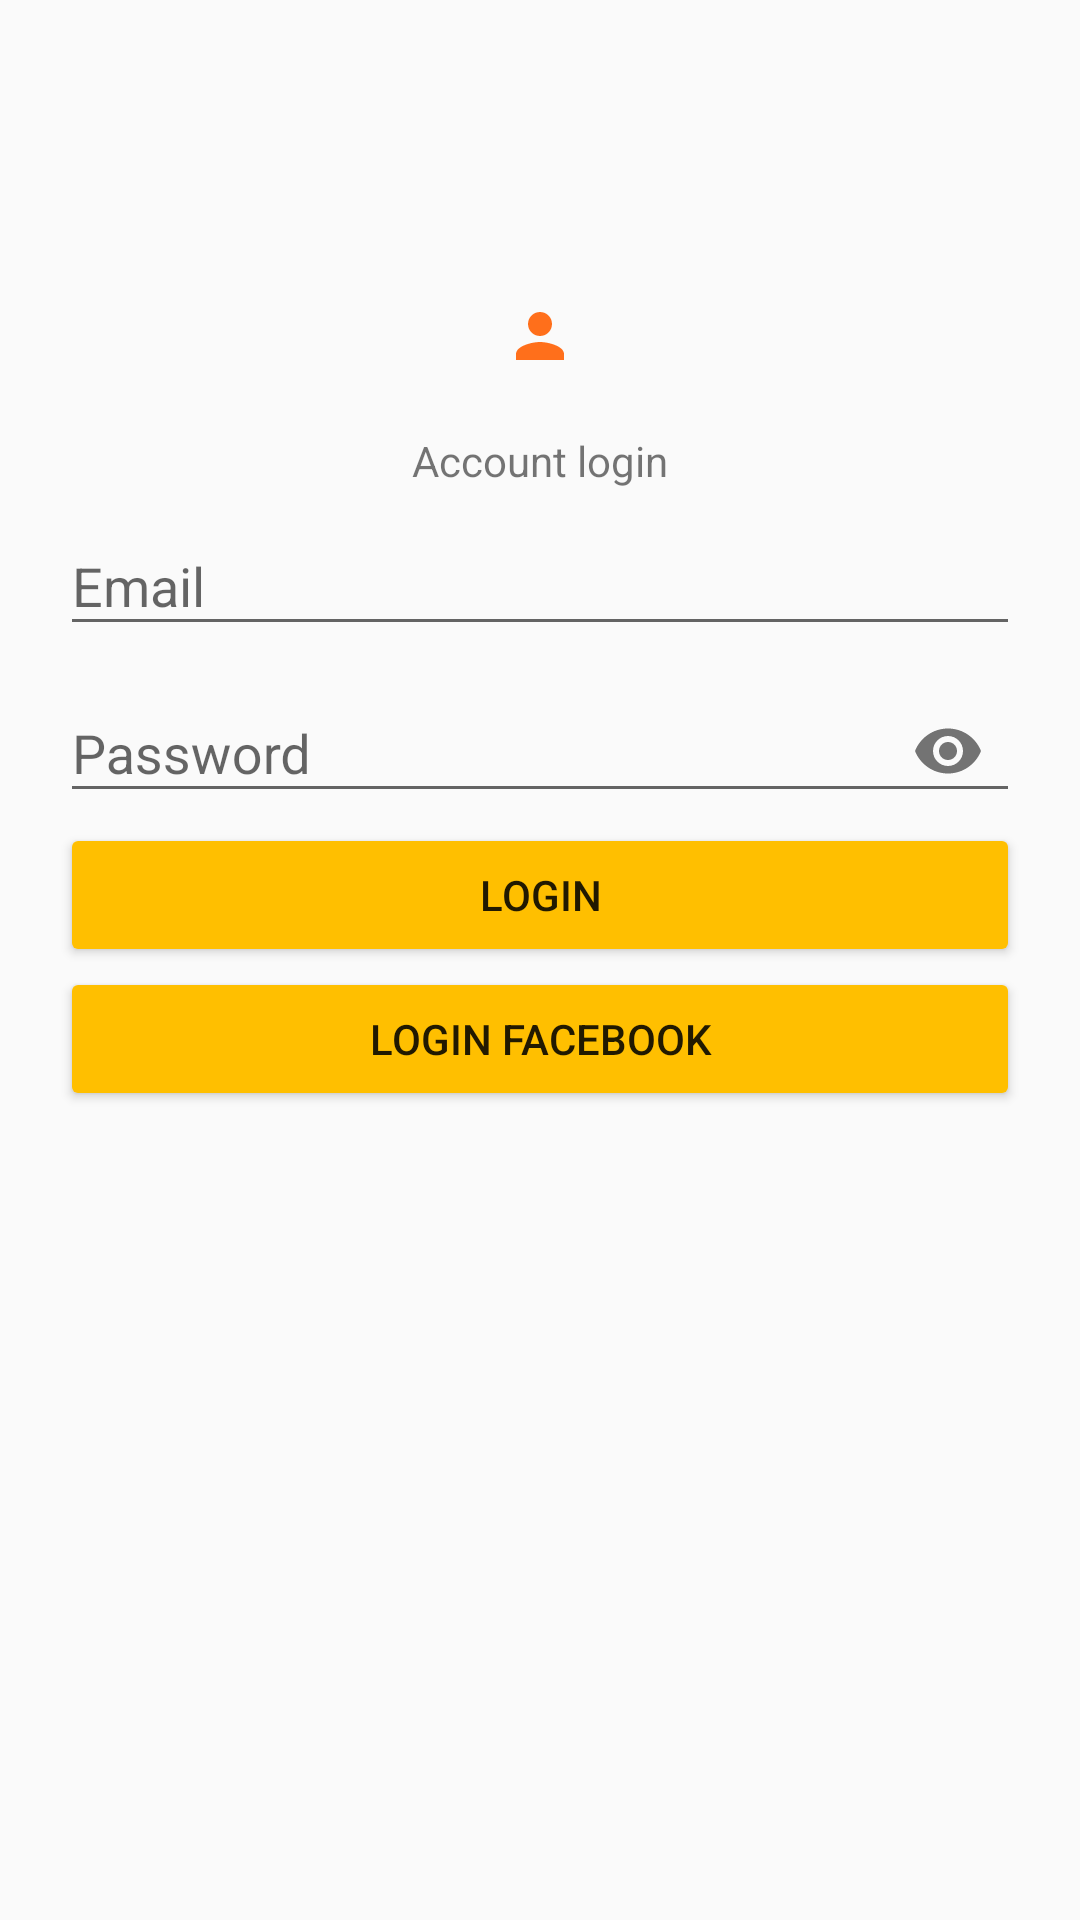

Icon bounding boxes for this 1080*1920 phone screenshot, format bbox(x1, y1, x2, y2):
person: bbox(516, 312, 564, 360)
